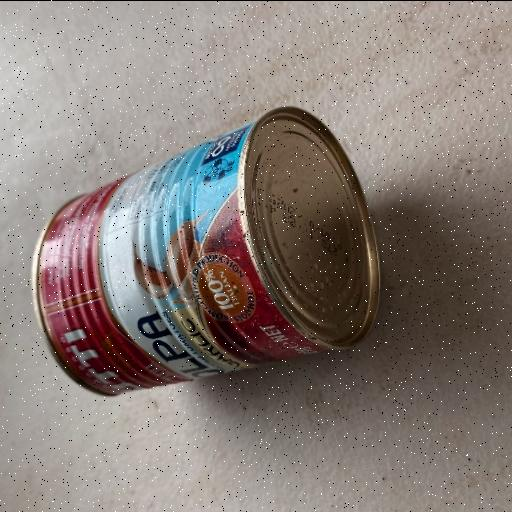Metal: (29, 104, 383, 398)
